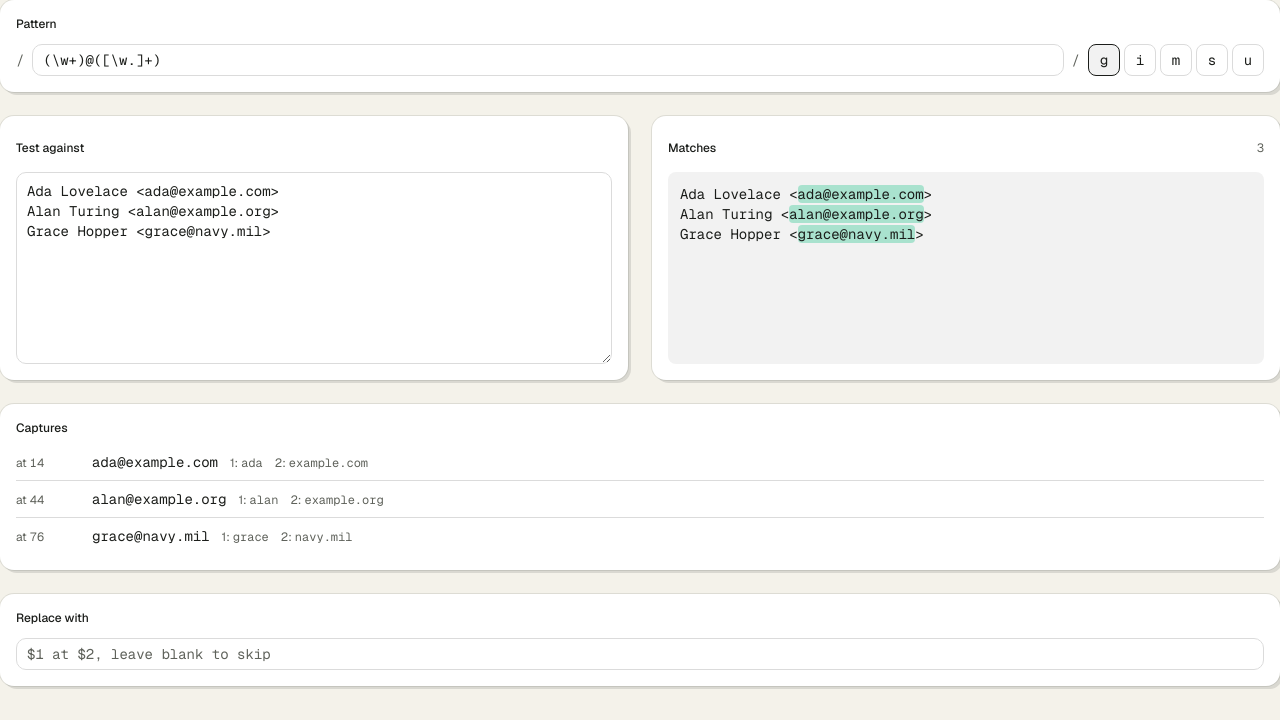
Test: RegexTesterTool › applies a replacement template
Click the field labelled "Replace with". click: {"x": 640, "y": 654}
box: [16,638,1264,670]
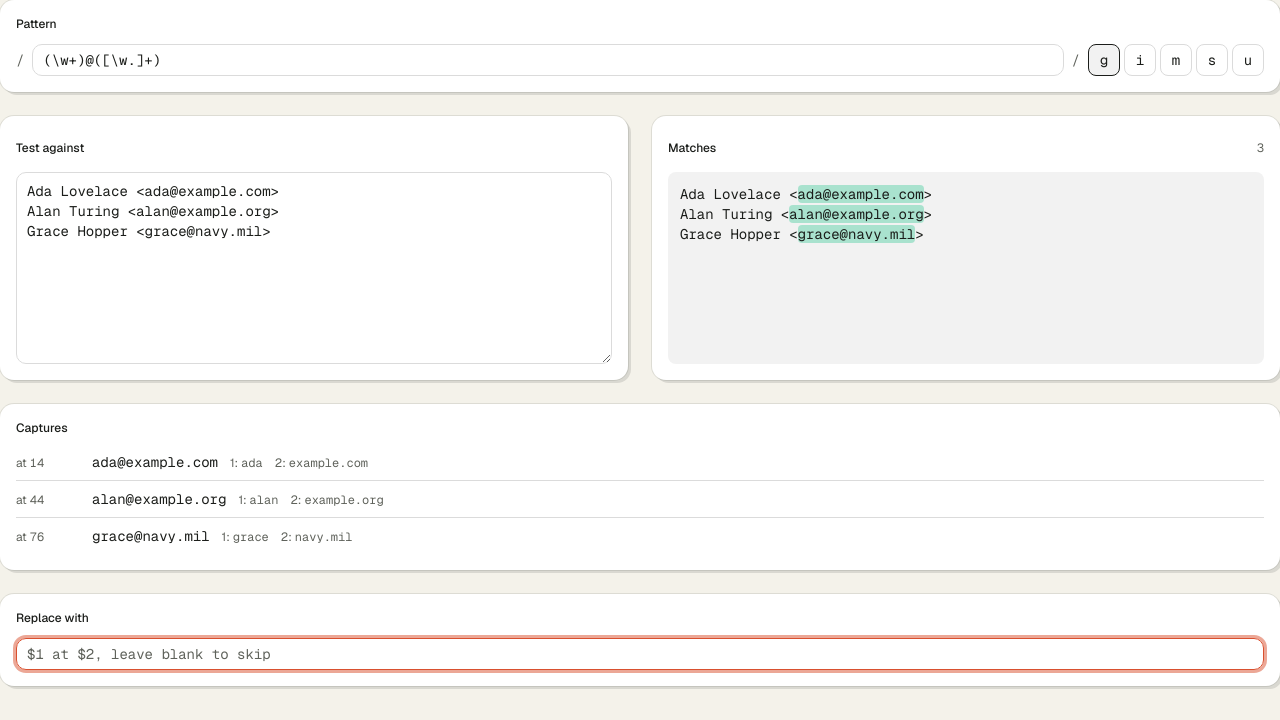
Type keys "$1 at $2"
(page scrolled)
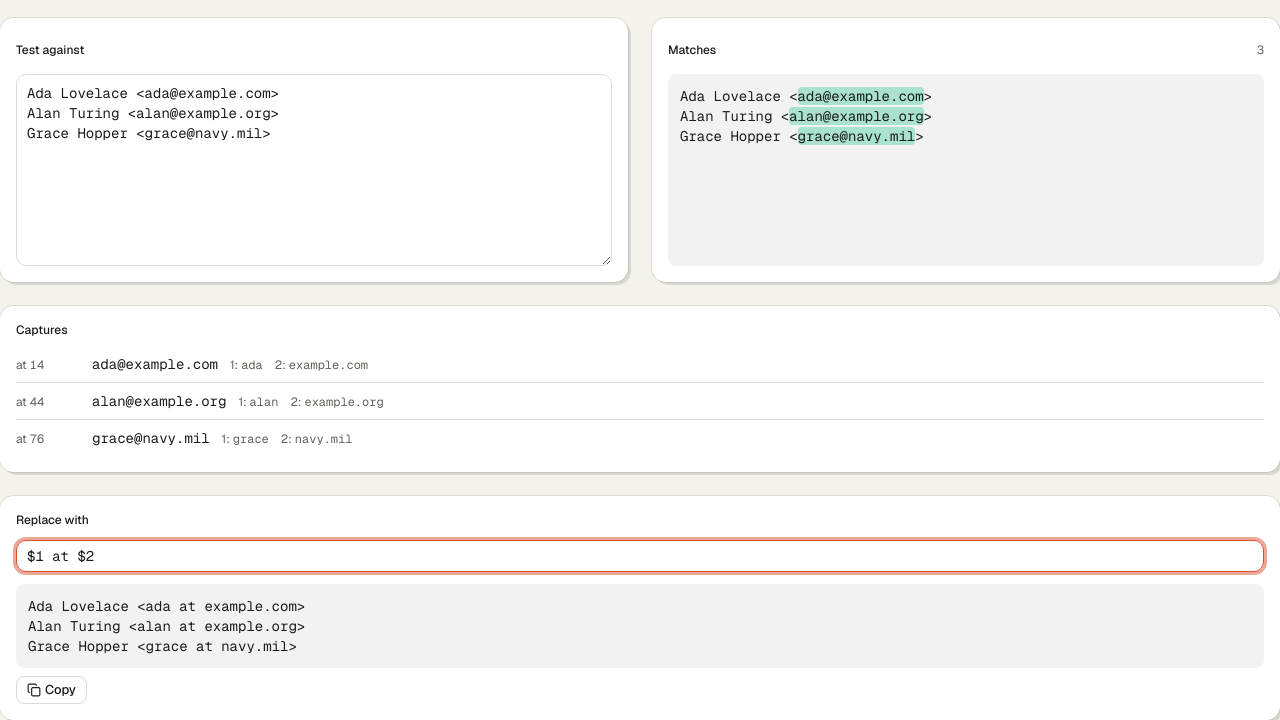
Check: the text "ada at example.com" is shown, box [28,597,305,655]
